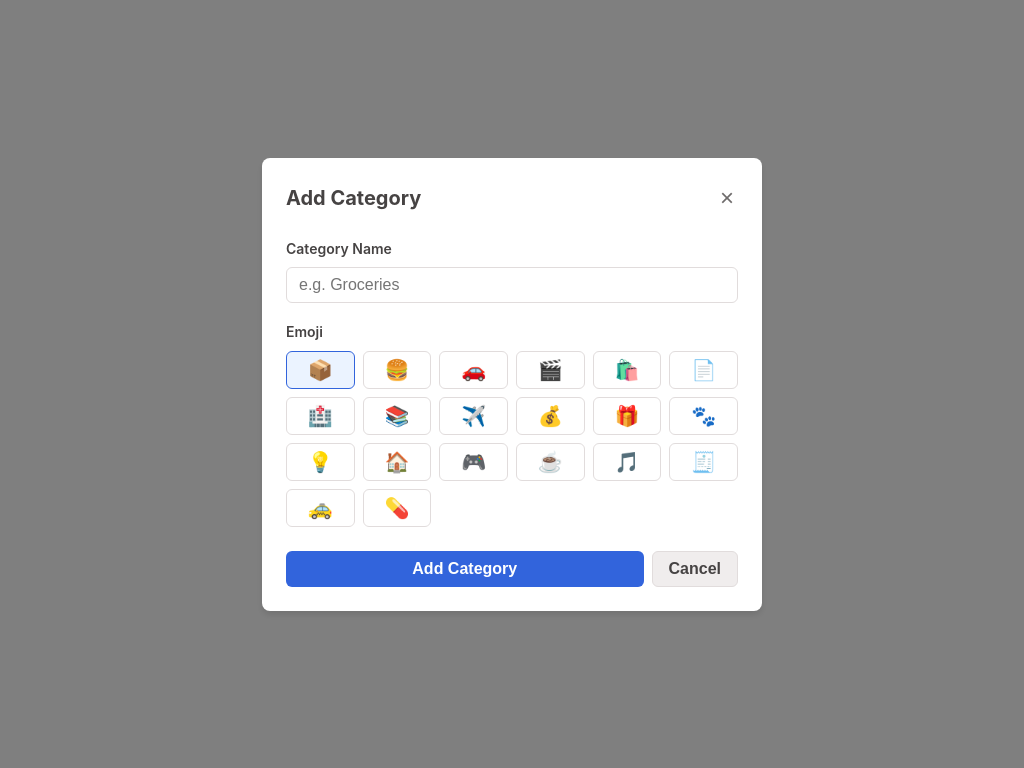
Test: AddCategoryModal › rejects a duplicate name case-insensitively
The width and height of the screenshot is (1024, 768).
Type "food" into the field labelled "Category Name" at (512, 284), box x1=286 y1=266 x2=738 y2=302
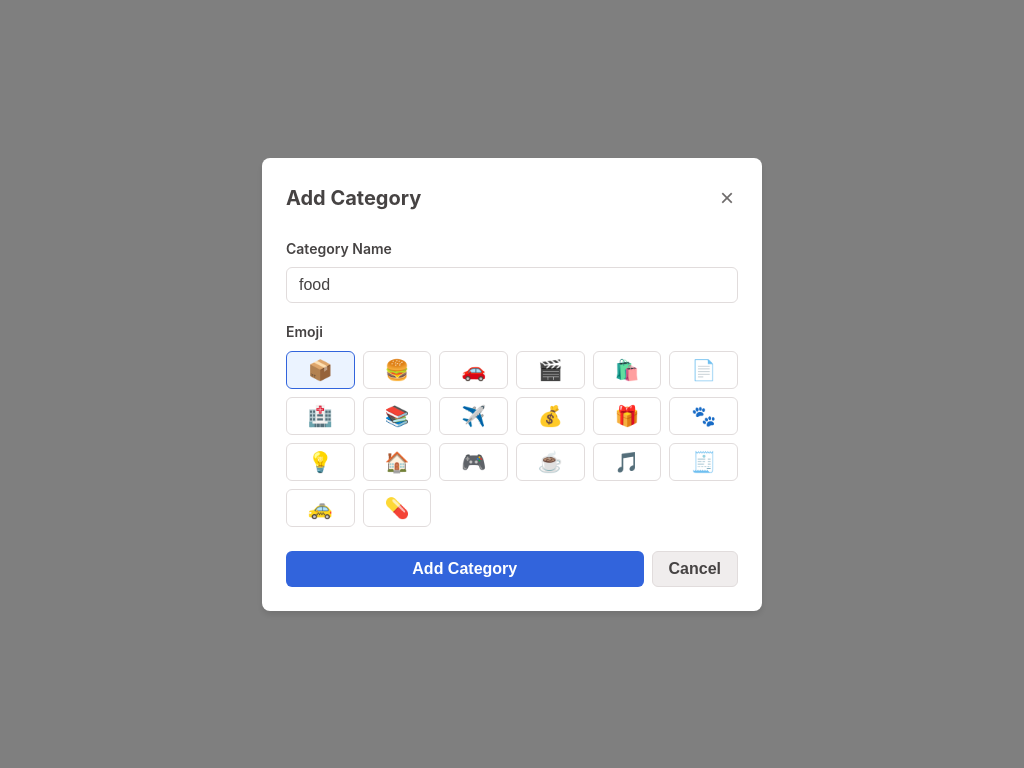
Click the button "Add Category" at (465, 568), box x1=286 y1=550 x2=644 y2=586
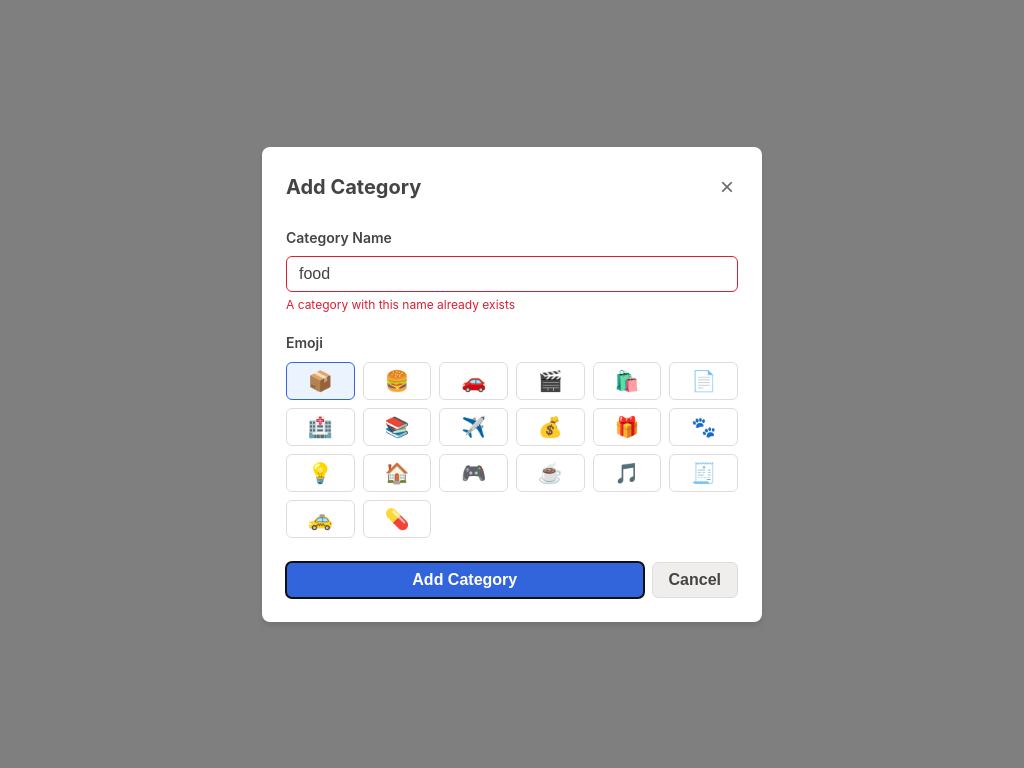
Result: the text "A category with this name already exists" is shown at x1=286 y1=296 x2=515 y2=312
